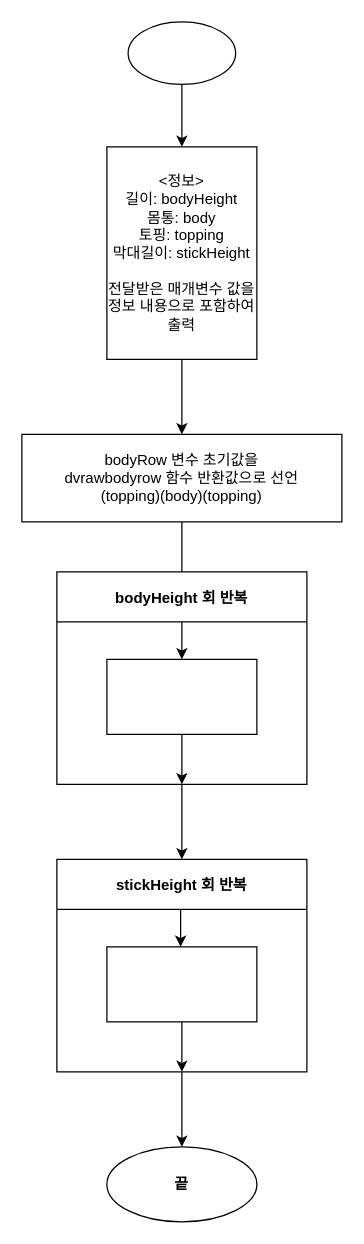
This 364x1244 diagram has some shape labels left out. The centre of each missing label's shape, as x and y in pixels:
"bodyRow 출력" belongs at point 181,696.
"stick 출력" belongs at point 181,984.
"시작" belongs at point 181,52.
